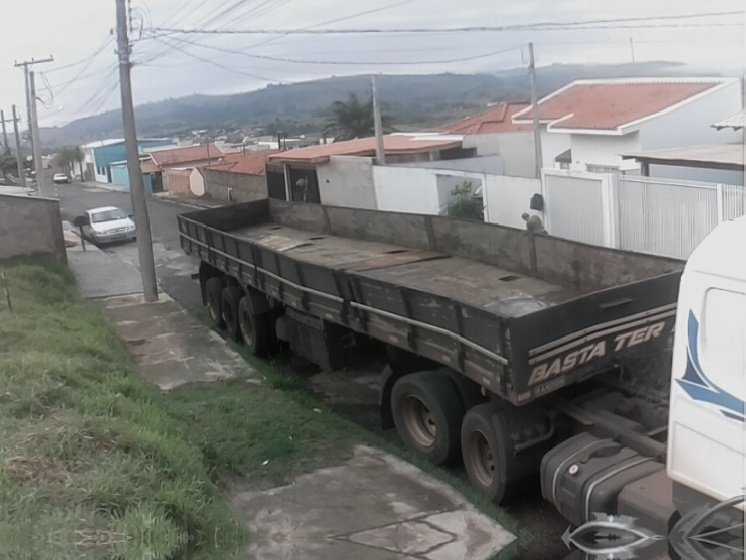person: (522, 210, 546, 235)
